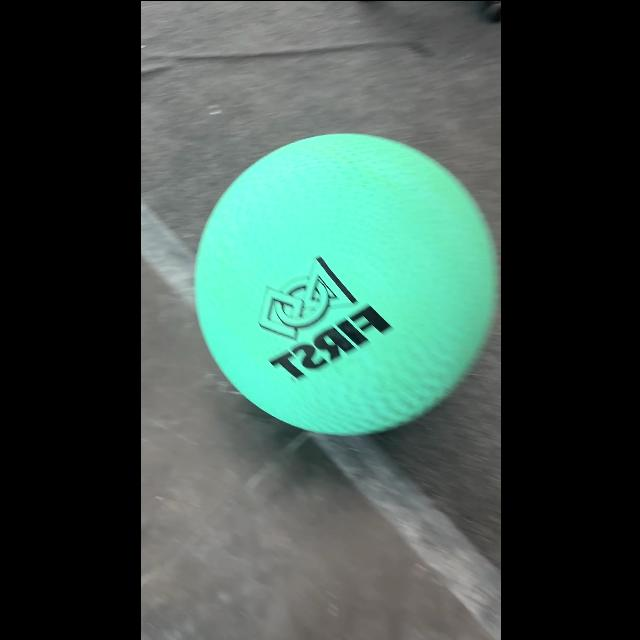ALGAE: (192, 130, 498, 436)
